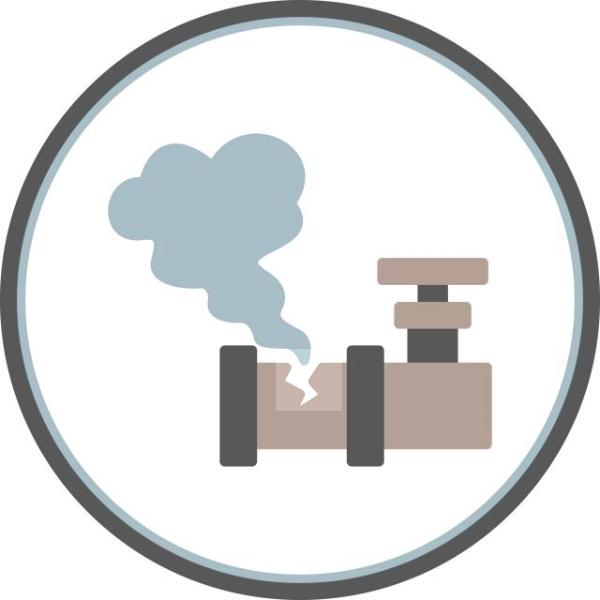leak: (276, 349, 342, 411)
